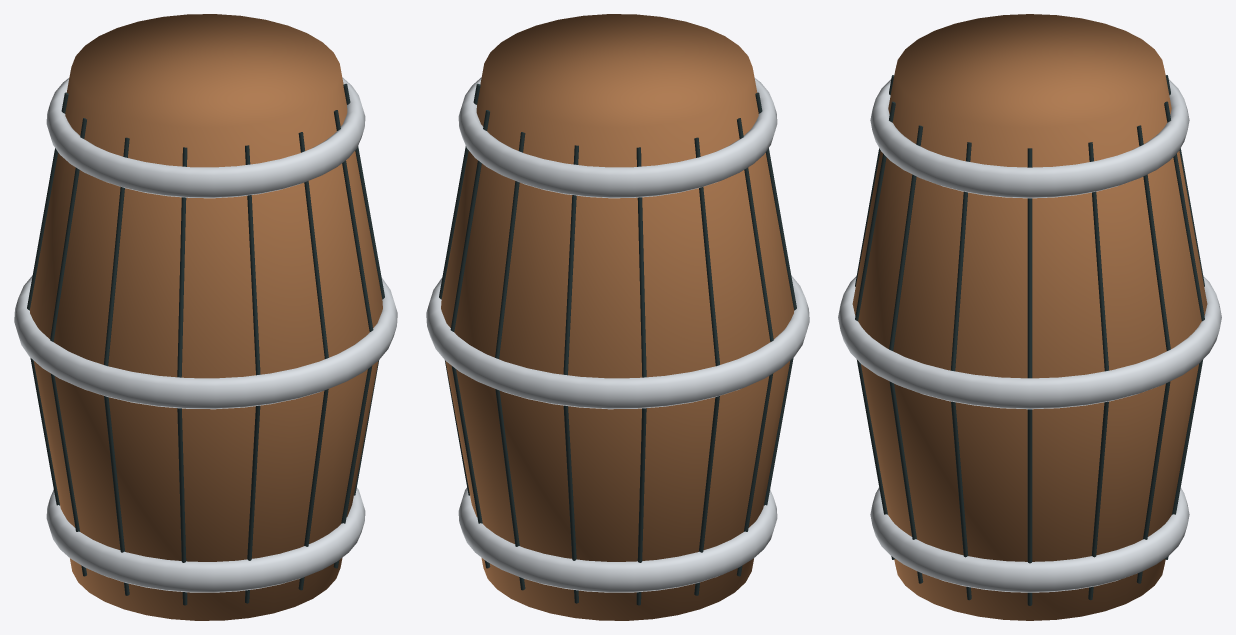
Rendered from wp-tonneau.glb.
The picture shows the model from 3 angles, left to right: view 1: azimuth 30°, elevation 25°; view 2: azimuth 150°, elevation 25°; view 3: azimuth 270°, elevation 25°; orthographic projection.
Visible parts, largest first — view 1: wp-tonneau; view 2: wp-tonneau; view 3: wp-tonneau.
Boxes of the visible parts, x1,y1,x2,y2 form: wp-tonneau: [14, 14, 397, 620]; wp-tonneau: [426, 14, 809, 620]; wp-tonneau: [838, 14, 1221, 620].
Bounding box in the file's own units: 0.6 × 0.85 × 0.6.
